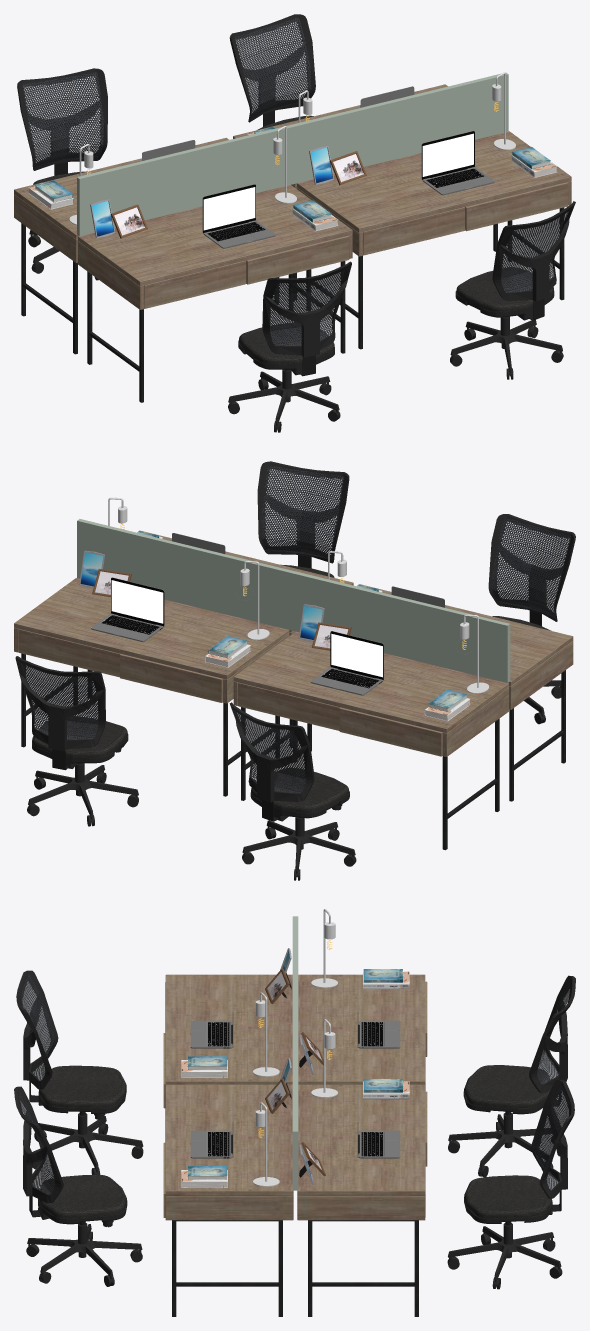
Rendered from desk_pod.glb.
3 renders of one model, top to bottom at view 1: azimuth 30°, elevation 25°; view 2: azimuth 150°, elevation 25°; view 3: azimuth 270°, elevation 25°, orthographic. The views are drawn at different scales.
Visible parts, largest first — view 1: simple_c0, wood_desk_8_n6, wood_desk_8_n9, office_chair_mesh_1_n2, office_chair_mesh_1_n5, wood_desk_8_n0, office_chair_mesh_0_n8, office_chair_mesh_1_n8, office_chair_mesh_0_n11, wood_desk_6_n6, wood_desk_6_n9, wood_desk_7_n9 (+24 smaller); view 2: simple_c0, wood_desk_8_n0, wood_desk_8_n3, office_chair_mesh_1_n11, office_chair_mesh_1_n8, wood_desk_8_n6, office_chair_mesh_0_n5, office_chair_mesh_1_n5, office_chair_mesh_0_n2, wood_desk_6_n0, wood_desk_6_n3, office_chair_mesh_0_n11 (+23 smaller); view 3: wood_desk_8_n3, wood_desk_8_n9, wood_desk_8_n0, wood_desk_8_n6, office_chair_mesh_5_n5, office_chair_mesh_5_n8, office_chair_mesh_5_n2, office_chair_mesh_5_n11, office_chair_mesh_0_n8, office_chair_mesh_0_n5, office_chair_mesh_0_n11, office_chair_mesh_0_n2 (+22 smaller).
Part boxes in pixels (x1,y1,x2,y2): simple_c0: (77,72,508,236); wood_desk_8_n6: (78,185,352,402); wood_desk_8_n9: (297,131,571,349); office_chair_mesh_1_n2: (22,72,104,166); office_chair_mesh_1_n5: (234,17,311,118); wood_desk_8_n0: (14,137,279,354); office_chair_mesh_0_n8: (262,261,351,357); office_chair_mesh_1_n8: (270,270,344,345); office_chair_mesh_0_n11: (492,201,575,301); wood_desk_6_n6: (246,235,349,284); wood_desk_6_n9: (465,182,567,231); wood_desk_7_n9: (363,207,465,255); simple_c0: (77,519,510,682); wood_desk_8_n0: (233,631,508,850); wood_desk_8_n3: (14,578,289,796); office_chair_mesh_1_n11: (261,465,344,559); office_chair_mesh_1_n8: (492,517,571,617); wood_desk_8_n6: (307,584,573,801); office_chair_mesh_0_n5: (15,656,105,751); office_chair_mesh_1_n5: (22,664,98,739); office_chair_mesh_0_n2: (229,702,314,802); wood_desk_6_n0: (339,707,442,756); wood_desk_6_n3: (120,654,222,702); office_chair_mesh_0_n11: (257,461,349,563); wood_desk_8_n3: (297,1084,425,1316); wood_desk_8_n9: (165,1084,293,1316); wood_desk_8_n0: (298,974,425,1084); wood_desk_8_n6: (165,974,292,1084); office_chair_mesh_5_n5: (464,1175,552,1218); office_chair_mesh_5_n8: (38,1065,126,1108); office_chair_mesh_5_n2: (464,1065,550,1108); office_chair_mesh_5_n11: (38,1174,126,1218); office_chair_mesh_0_n8: (16,970,58,1089); office_chair_mesh_0_n5: (531,1079,574,1198); office_chair_mesh_0_n11: (14,1086,63,1203); office_chair_mesh_0_n2: (529,975,575,1092).
Size of the model in its own units: 2.76 by 1.21 by 3.03.
14 materials, 11 textured.
